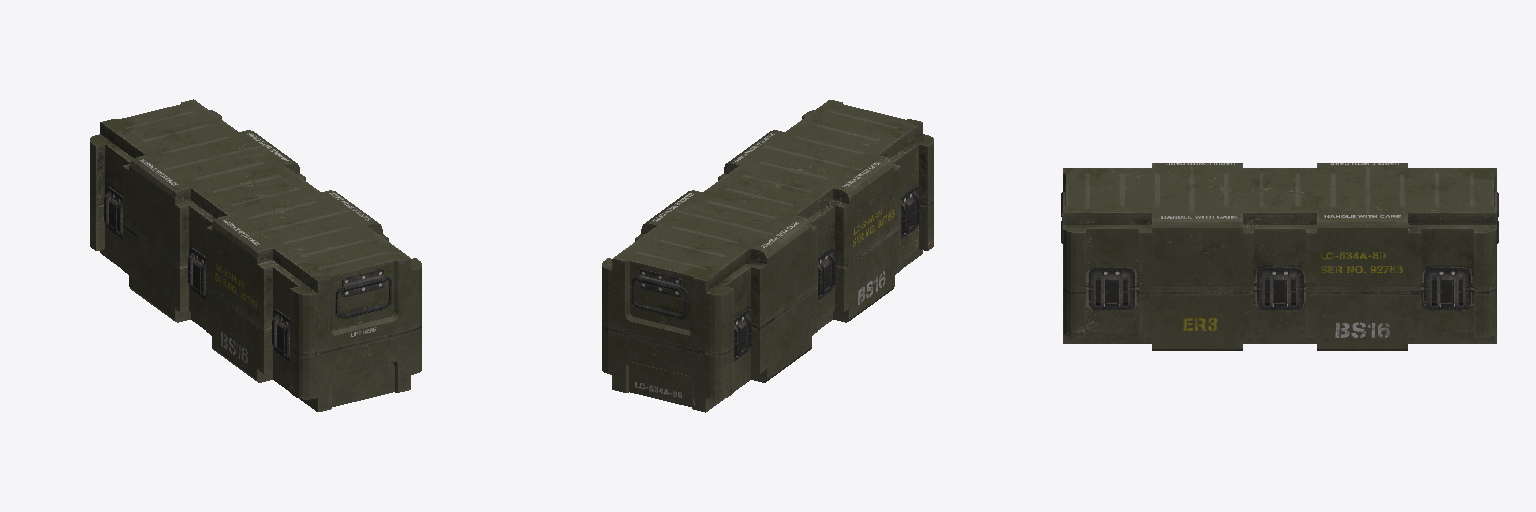
3 renders of one model, left to right at view 1: azimuth 30°, elevation 25°; view 2: azimuth 150°, elevation 25°; view 3: azimuth 270°, elevation 25°, orthographic.
Visible parts, largest first — view 1: polySurface11; view 2: polySurface11; view 3: polySurface11.
Part boxes in pixels (left/top/right/bottom): polySurface11: left=90, top=99, right=421, bottom=411; polySurface11: left=602, top=100, right=933, bottom=412; polySurface11: left=1061, top=163, right=1498, bottom=350.
Bounding box in the file's own units: 1.62 × 1.62 × 4.89.
Materials: 1 (1 with a texture image).